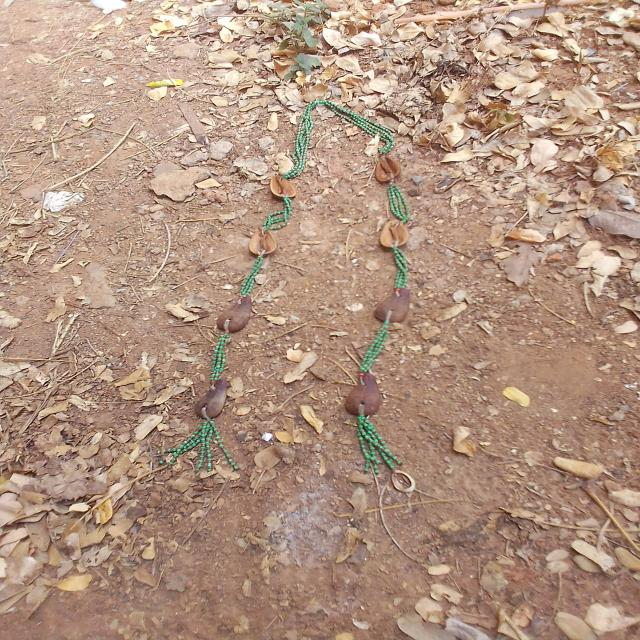facedown: (342, 370, 383, 417), (194, 374, 232, 420), (371, 283, 413, 324), (215, 293, 253, 336)
faceup: (377, 217, 410, 249), (372, 152, 403, 184), (248, 226, 278, 256), (268, 174, 297, 199)
